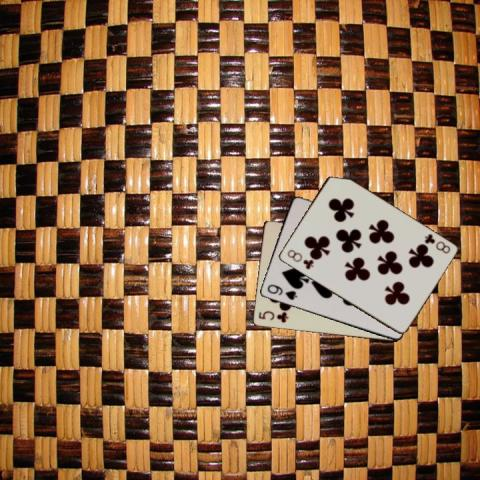5c: (256, 308, 290, 325)
8c: (284, 246, 315, 270), (422, 231, 452, 255)
9s: (264, 282, 299, 302)
